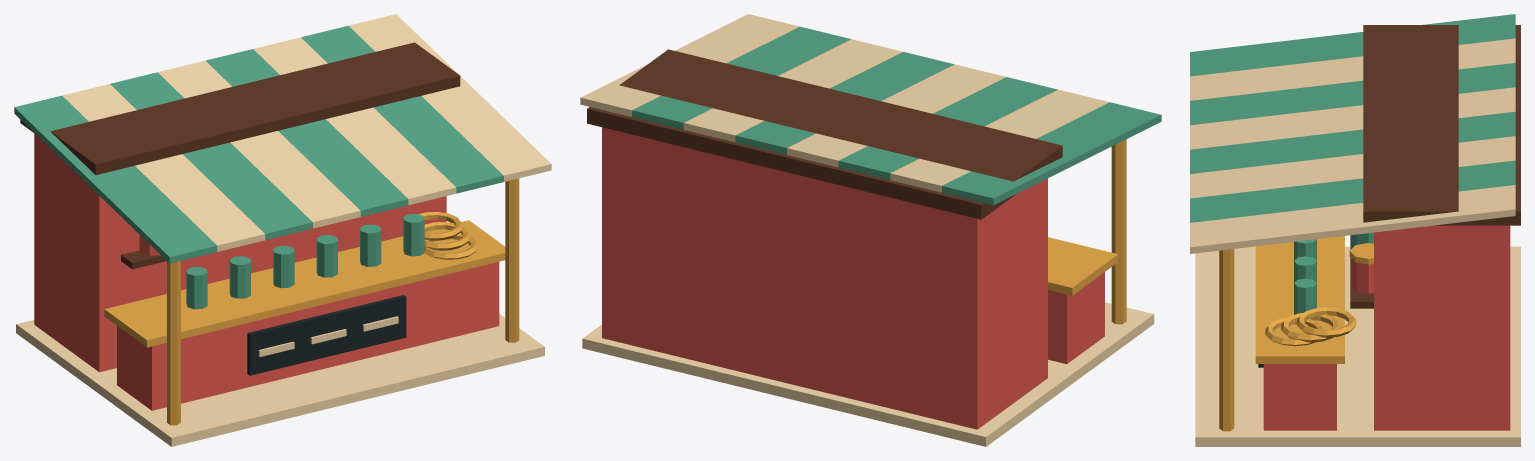
File: ParkParkBoothRing.obj
3 views of the same model, side by side, from view 1: azimuth 30°, elevation 25°; view 2: azimuth 150°, elevation 25°; view 3: azimuth 270°, elevation 25° (orthographic). The views are drawn at different scales.
Visible parts, largest first — view 1: ParkParkBoothRing; view 2: ParkParkBoothRing; view 3: ParkParkBoothRing.
Boxes of the visible parts, bbox=[...] form: ParkParkBoothRing: bbox=[14, 14, 551, 446]; ParkParkBoothRing: bbox=[580, 14, 1161, 446]; ParkParkBoothRing: bbox=[1190, 14, 1520, 446].
Bounding box in the file's own units: 8.8 × 5.04 × 6.3.
